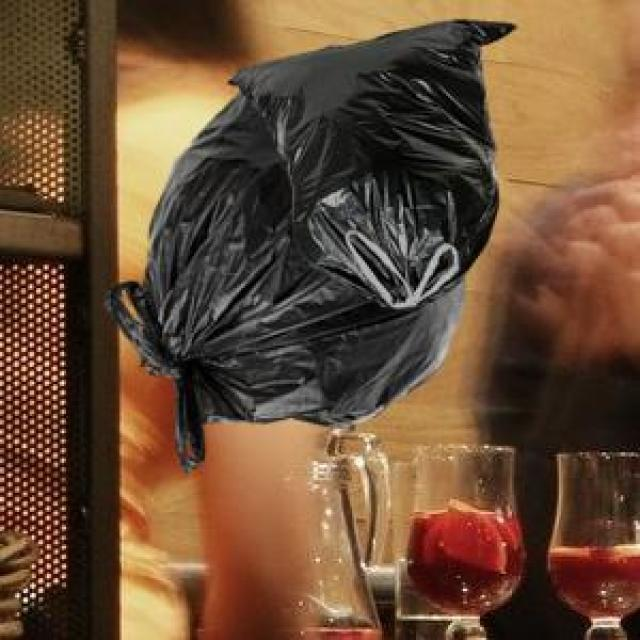Vinyl: (109, 21, 512, 465)
